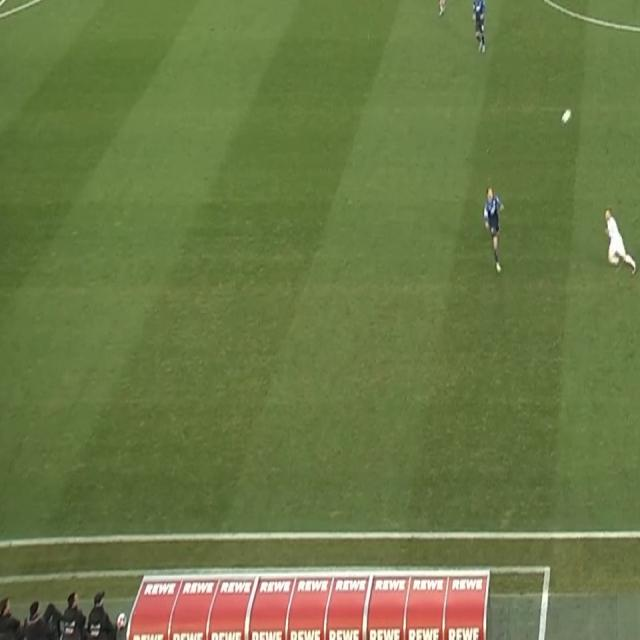ball: (560, 108, 572, 127)
